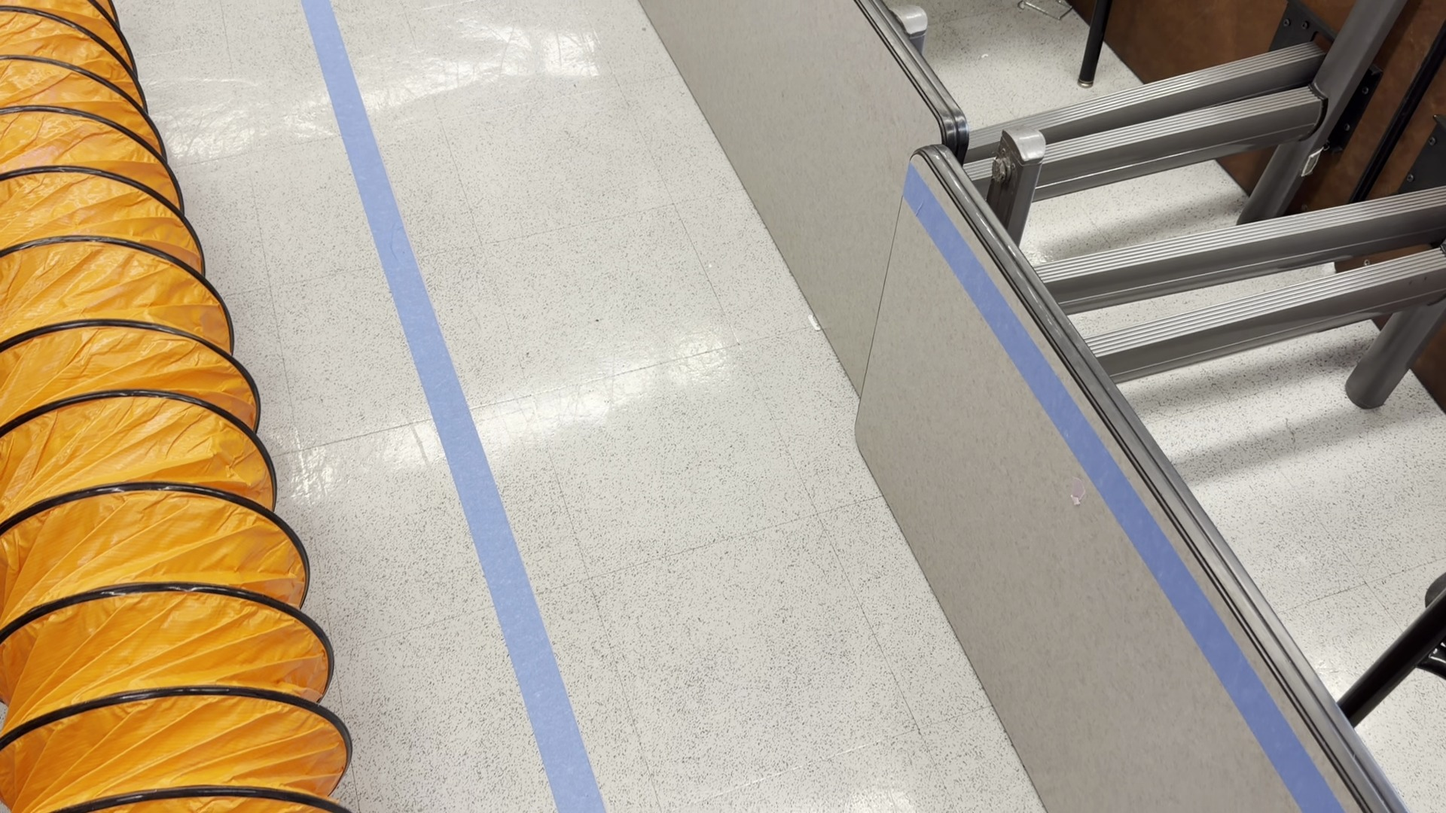racecar: (654, 0, 1444, 811)
